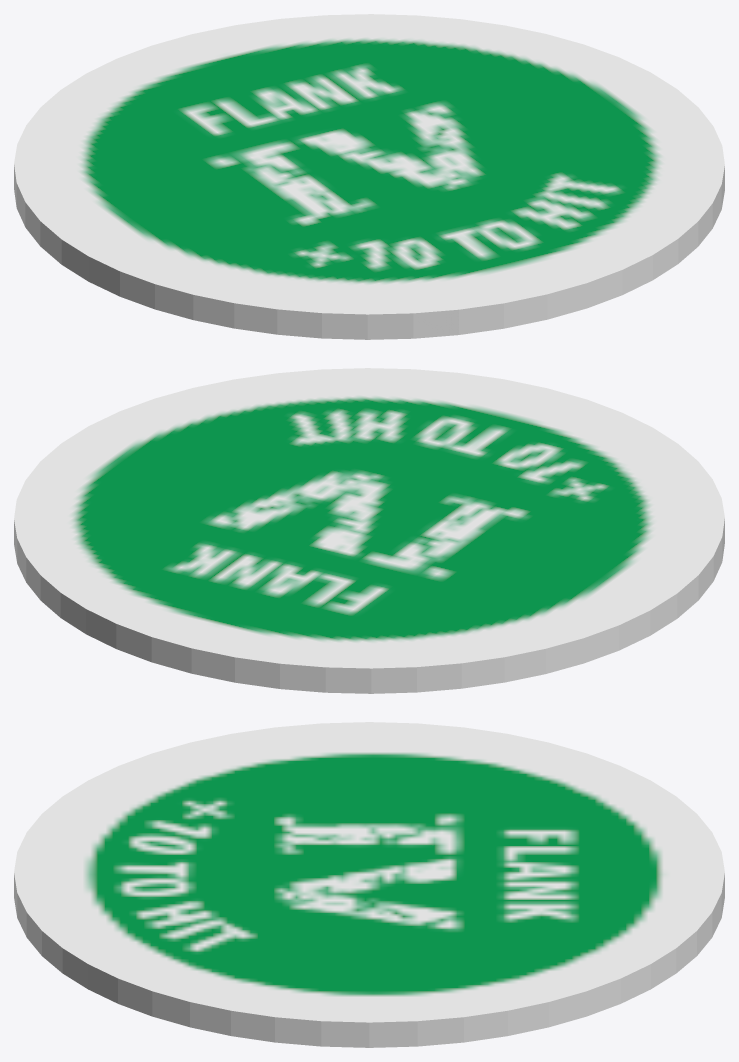
3 views of the same model, one above another, from view 1: azimuth 30°, elevation 25°; view 2: azimuth 150°, elevation 25°; view 3: azimuth 270°, elevation 25° (orthographic).
Parts seen in each view (by area): view 1: Curve.003_Curve.782; view 2: Curve.003_Curve.782; view 3: Curve.003_Curve.782.
Boxes of the visible parts, x1,y1,x2,y2 form: Curve.003_Curve.782: (14,14,724,339); Curve.003_Curve.782: (14,368,724,693); Curve.003_Curve.782: (14,722,724,1047).
Bounding box in the file's own units: 1 × 0.0394 × 1.
